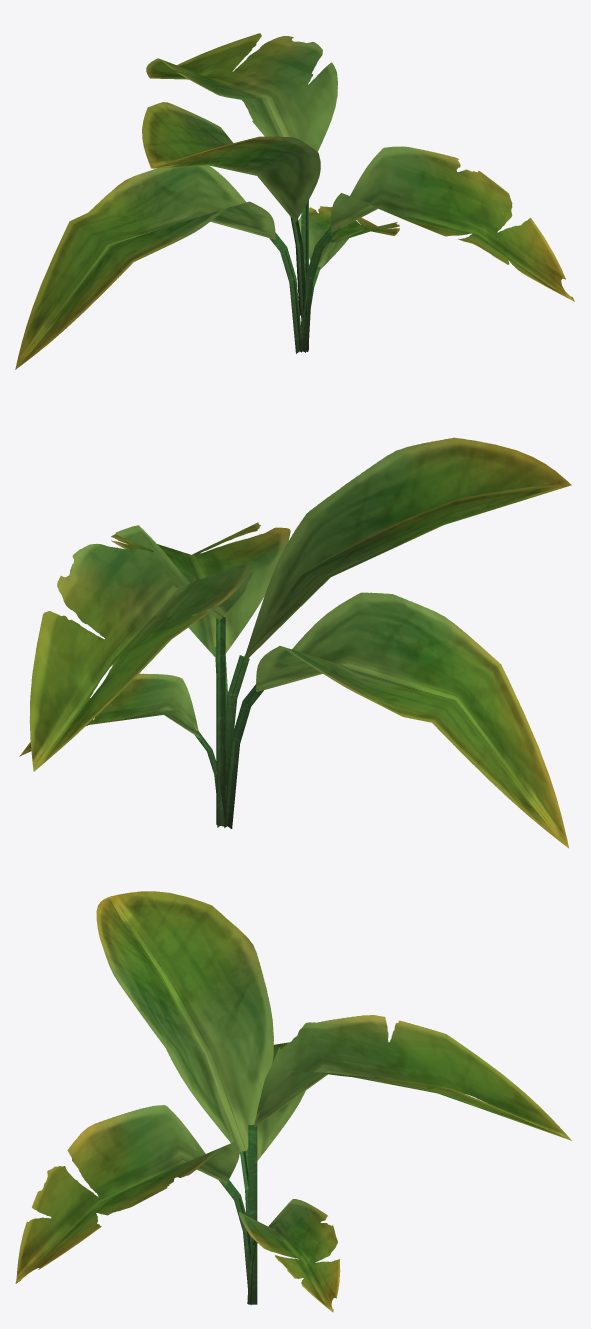
Rendered from veg_plant.fbx.
The picture shows the model from 3 angles, top to bottom: view 1: azimuth 30°, elevation 25°; view 2: azimuth 150°, elevation 25°; view 3: azimuth 270°, elevation 25°; orthographic projection. The views are drawn at different scales.
Visible parts, largest first — view 1: veg_plant; view 2: veg_plant; view 3: veg_plant.
Part boxes in pixels (<box>): veg_plant: <box>15,33,574,369</box>; veg_plant: <box>19,437,571,848</box>; veg_plant: <box>15,891,571,1312</box>.
Bounding box in the file's own units: 114 × 76.18 × 118.
